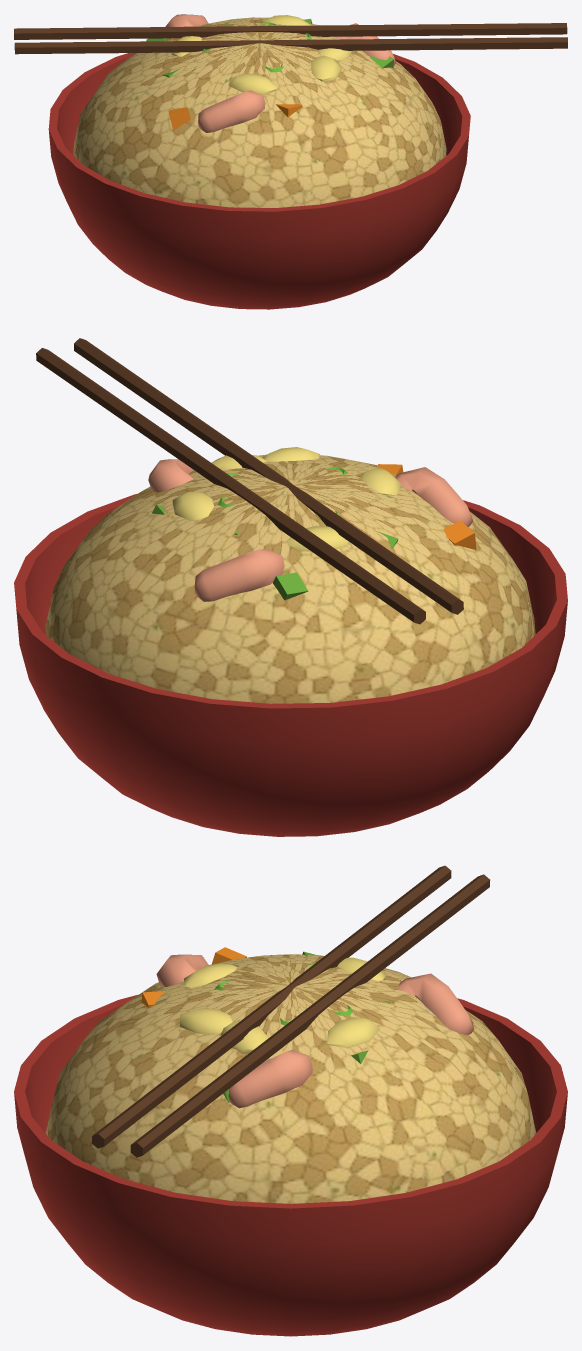
The model's file is meal_fried_rice_bowl.glb.
3 views of the same model, one above another, from view 1: azimuth 30°, elevation 25°; view 2: azimuth 150°, elevation 25°; view 3: azimuth 270°, elevation 25° (orthographic). The views are drawn at different scales.
Visible parts, largest first — view 1: meal_fried_rice_bowl; view 2: meal_fried_rice_bowl; view 3: meal_fried_rice_bowl.
Boxes of the visible parts, <box> form: meal_fried_rice_bowl: <box>14,14,567,309</box>; meal_fried_rice_bowl: <box>14,338,567,836</box>; meal_fried_rice_bowl: <box>14,865,567,1336</box>.
Bounding box in the file's own units: 0.2107 × 0.1045 × 0.176.
Materials: 8 (1 with a texture image).
